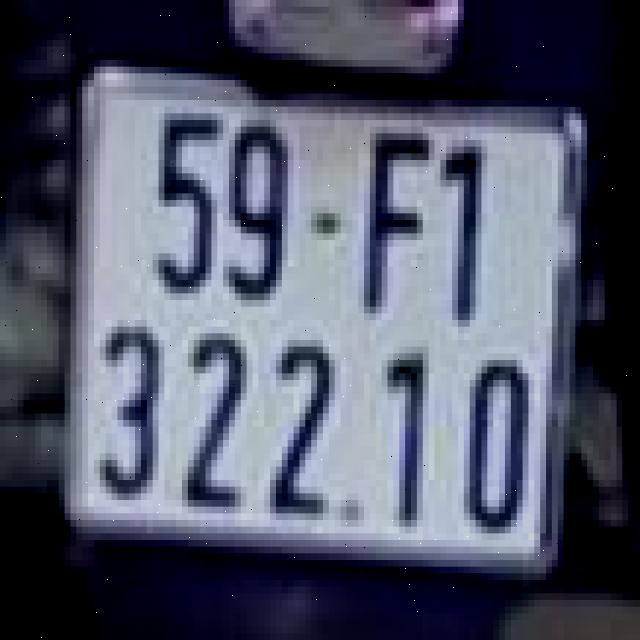0: (446, 344, 546, 564)
1: (382, 330, 434, 550), (441, 140, 494, 327)
2: (176, 324, 253, 524), (258, 323, 335, 517)
3: (88, 307, 176, 520)
5: (153, 100, 223, 293)
9: (217, 117, 294, 303)
F: (350, 117, 438, 323)
